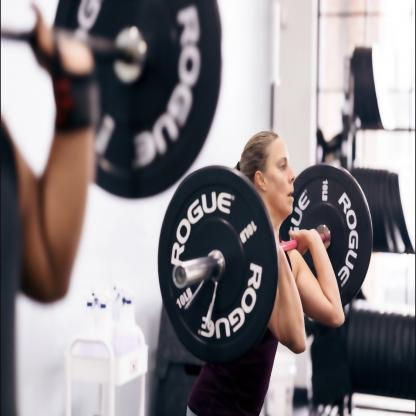barbell: (157, 164, 374, 364)
